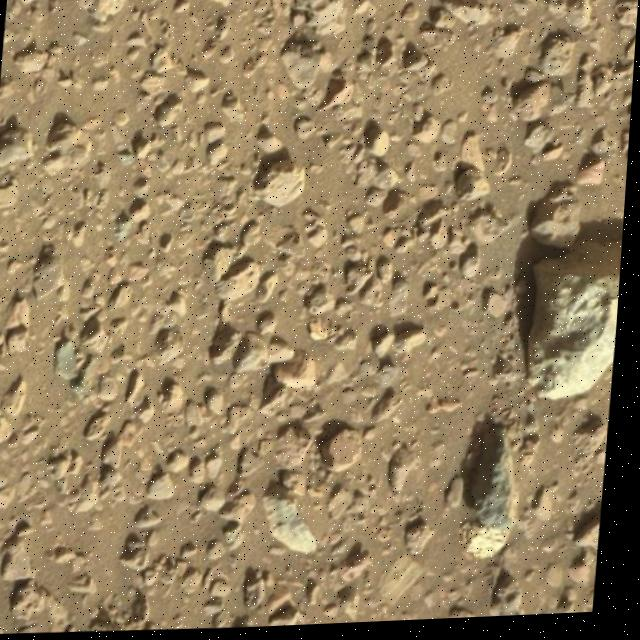mars-rocks: (532, 247, 626, 405), (468, 432, 525, 565)
